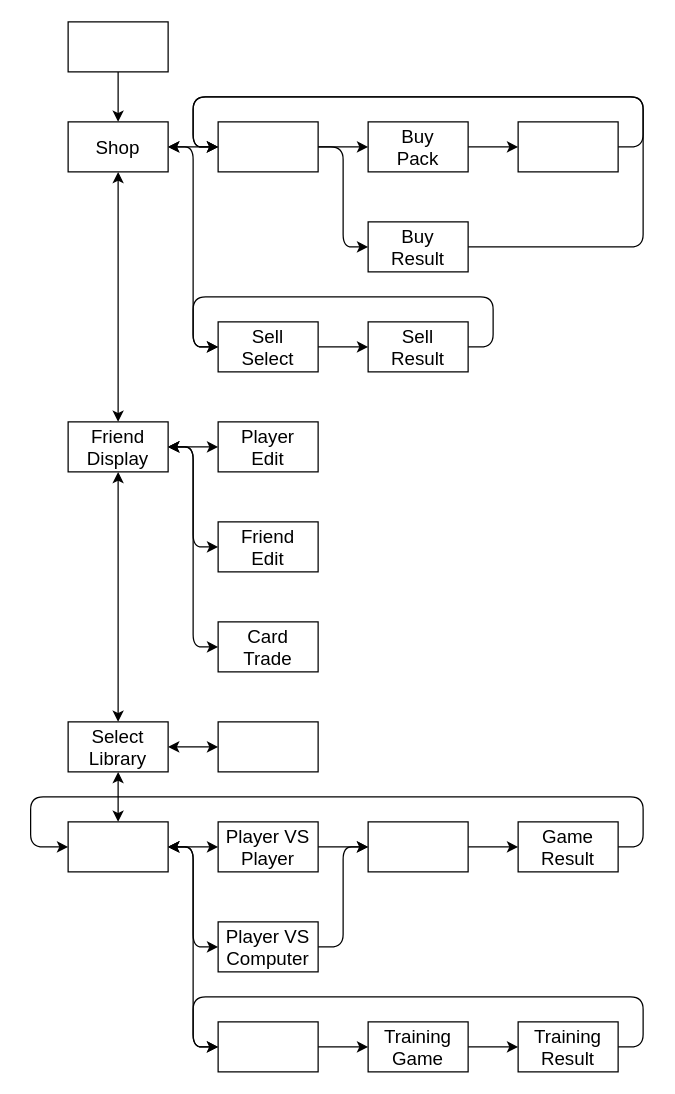
The diagram is 675 pixels wide and 1094 high, and some of its shapes have lost their labels. The box of each missing label's shape, as (x1, y1, x2, y2) in pixels:
Buttle Menu: (67, 821, 168, 872)
Edit Library: (217, 721, 318, 772)
Game: (367, 821, 468, 872)
Item Select: (217, 121, 318, 172)
PackOpen Result: (517, 121, 618, 172)
Title: (67, 21, 168, 72)
Training: (217, 1021, 318, 1072)
